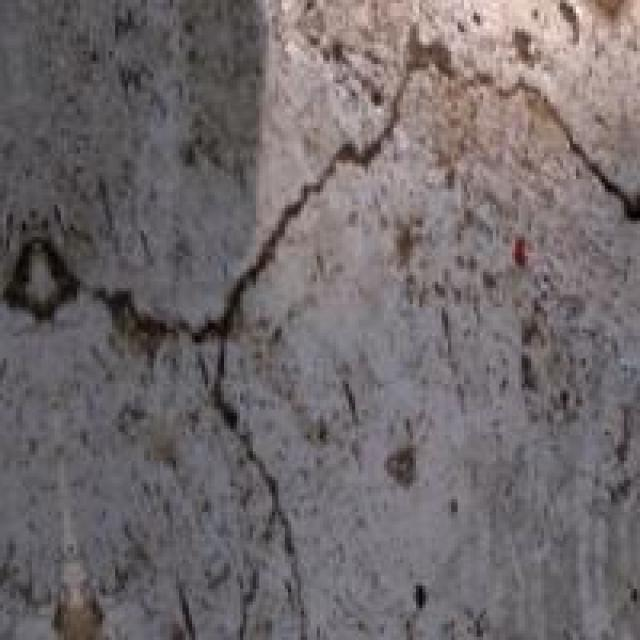Crack: (6, 32, 637, 483)
